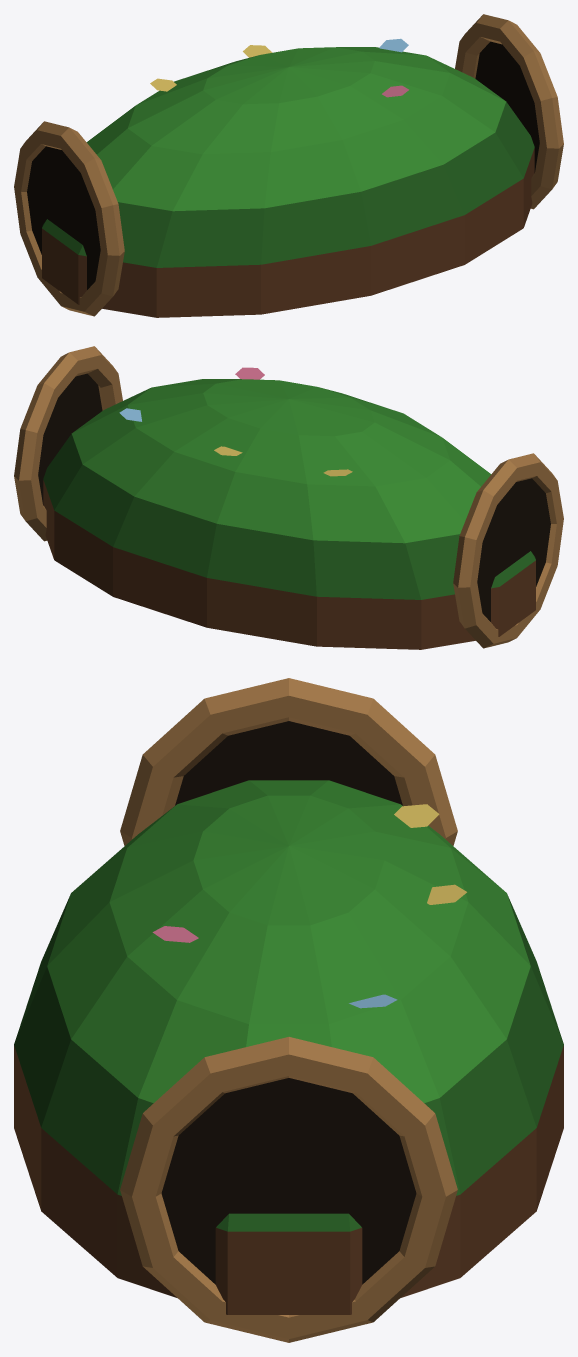
File: Garden_PlayTunnel.glb
The picture shows the model from 3 angles, top to bottom: view 1: azimuth 30°, elevation 25°; view 2: azimuth 150°, elevation 25°; view 3: azimuth 270°, elevation 25°; orthographic projection. The views are drawn at different scales.
Visible parts, largest first — view 1: PlayTunnel; view 2: PlayTunnel; view 3: PlayTunnel.
Part boxes in pixels (bbox=[...]): PlayTunnel: bbox=[14, 14, 563, 317]; PlayTunnel: bbox=[14, 346, 563, 649]; PlayTunnel: bbox=[14, 678, 563, 1342].
Bounding box in the file's own units: 3.17 × 1.25 × 1.97.
